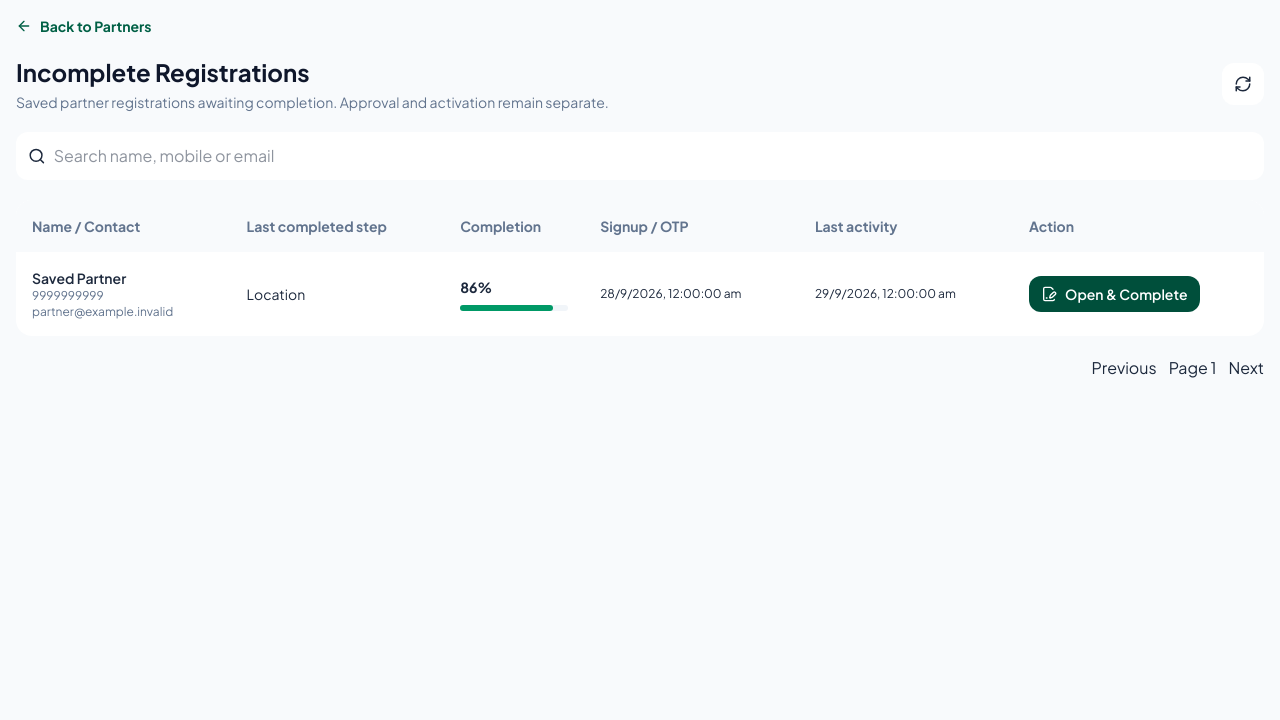
Test: admin opens saved partner form, saves draft and submits for approval
Click the button "Open & Complete" at (1114, 294), box x1=1029 y1=276 x2=1200 y2=312
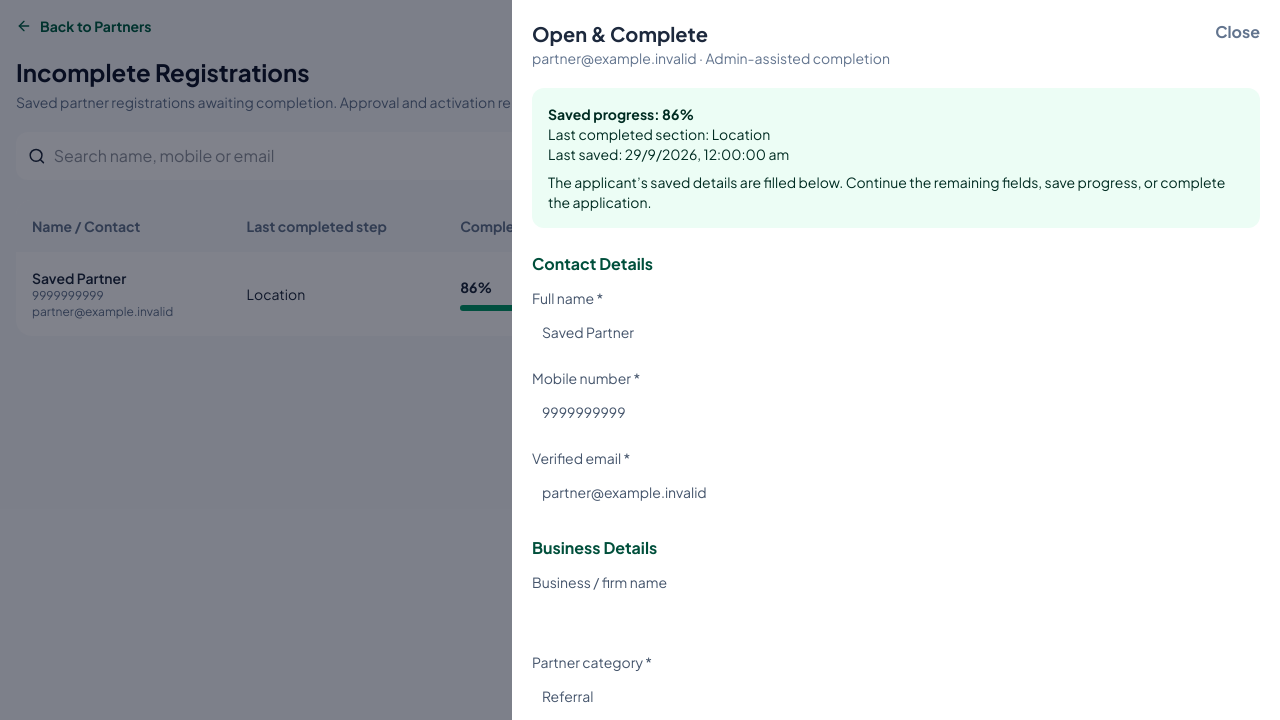
Expected: the field showing "Saved Partner" is shown
Replace the text in the field labelled "Full name *" with "Updated Partner" at (896, 332), box x1=532 y1=312 x2=1260 y2=352
(page scrolled)
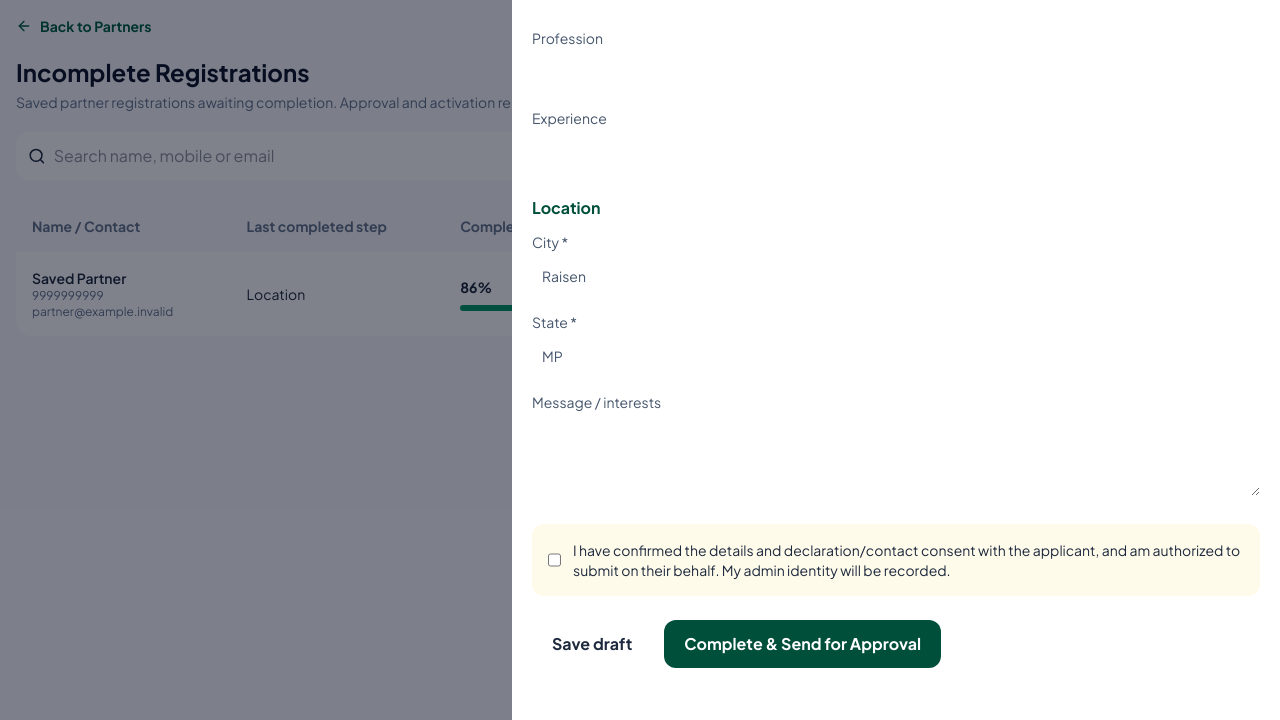
Click the button "Save draft" at (592, 644), box x1=532 y1=620 x2=652 y2=668
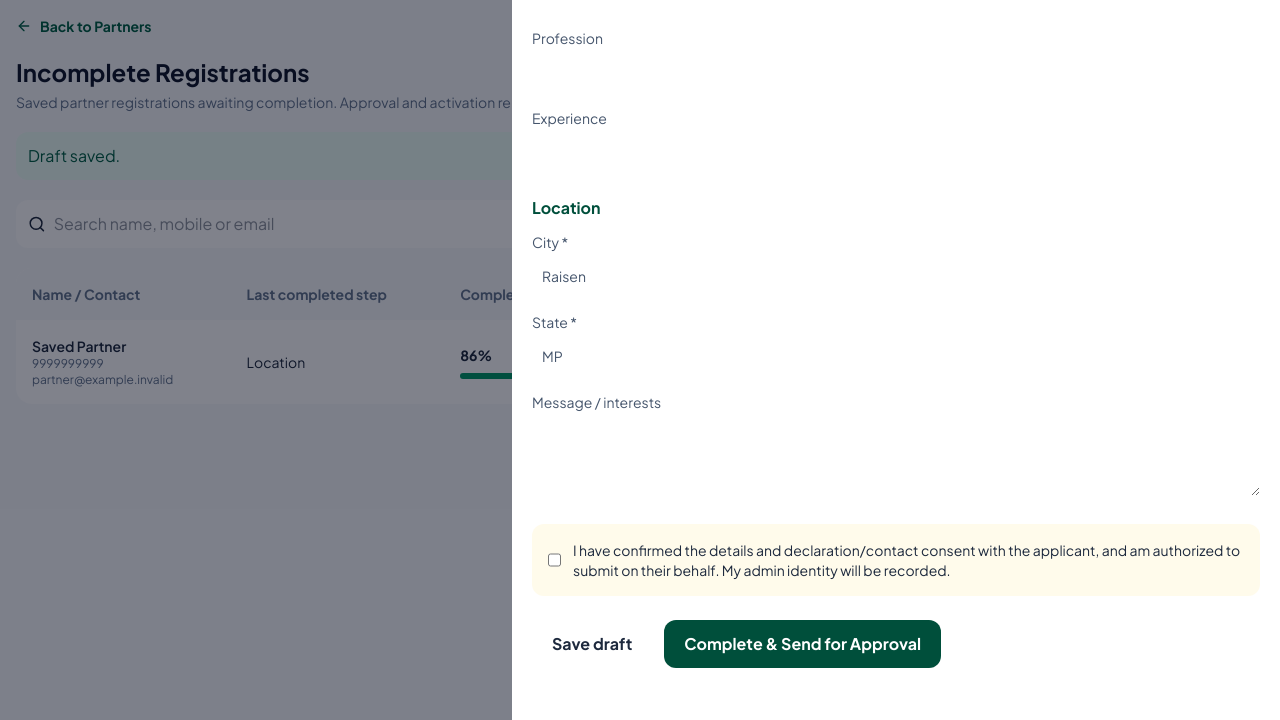
Expected: the button "Complete & Send for Approval" is disabled, x1=664 y1=620 x2=941 y2=668
Click the checkbox at (554, 560), box x1=548 y1=540 x2=561 y2=580
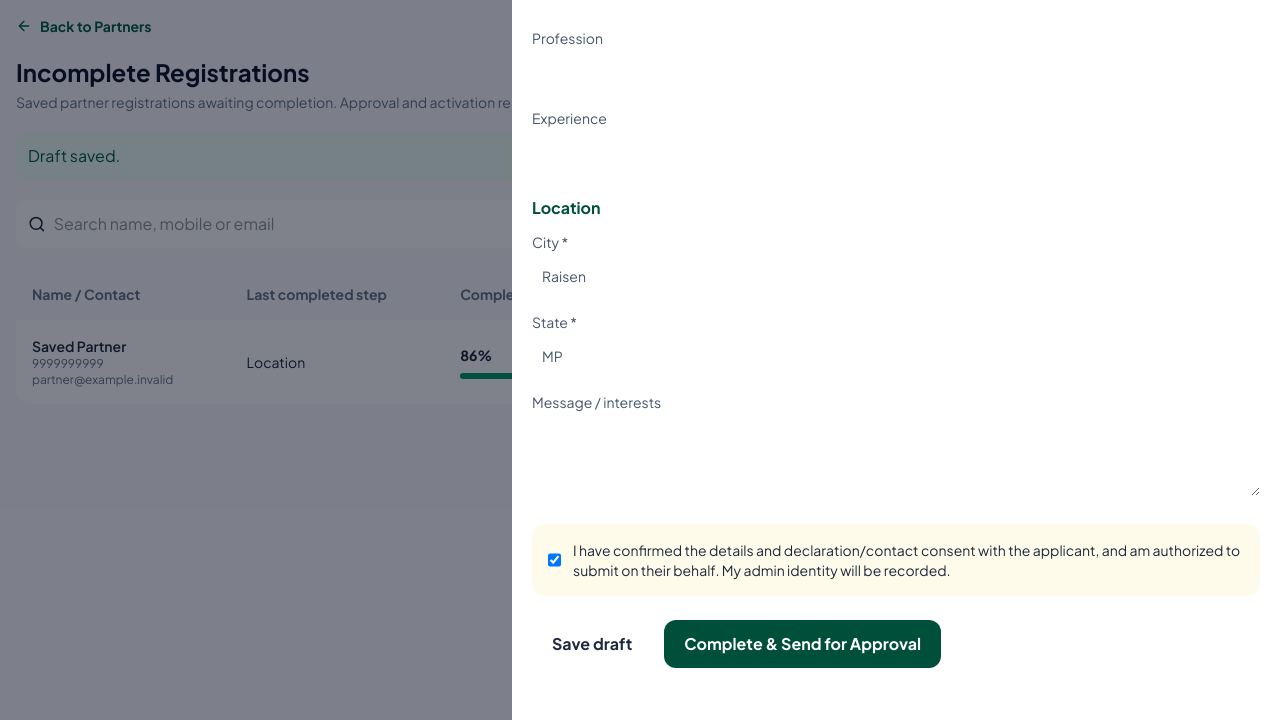
Click the button "Complete & Send for Approval" at (803, 644), box x1=664 y1=620 x2=941 y2=668
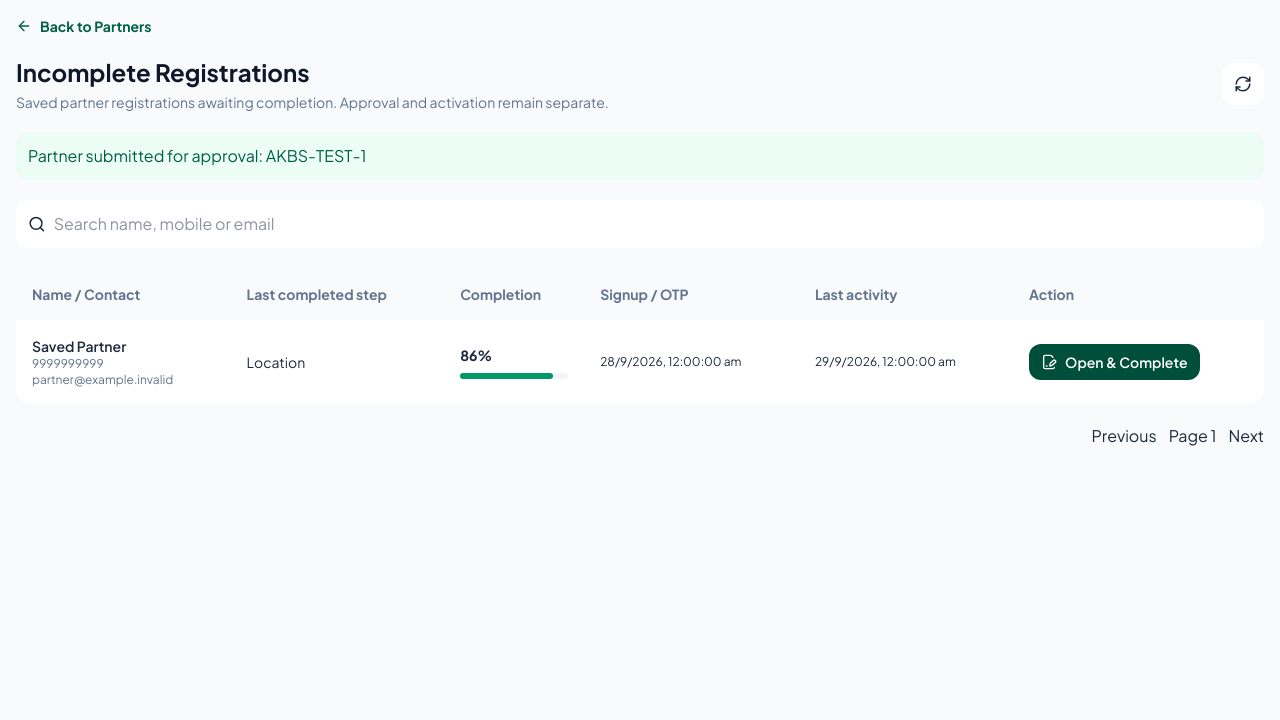
Expected: the dialog is gone
